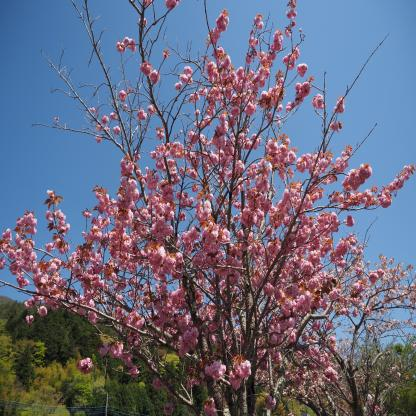YaeSakura: (1, 3, 414, 416), (305, 260, 416, 414)
